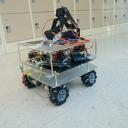cart: (15, 39, 99, 106)
